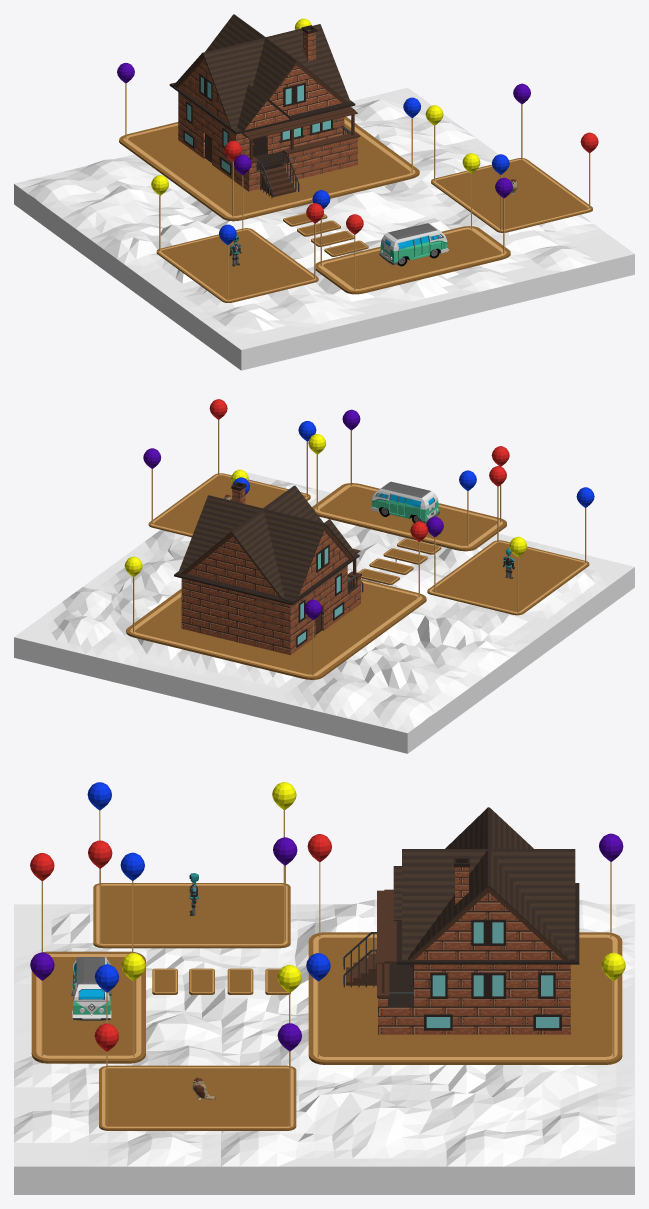
3 renders of one model, top to bottom at view 1: azimuth 30°, elevation 25°; view 2: azimuth 150°, elevation 25°; view 3: azimuth 270°, elevation 25°, orthographic. The views are drawn at different scales.
Parts seen in each view (by area): view 1: Cube.013, Cube.469, VEHICLES_VAN; view 2: Cube.013, Cube.469, VEHICLES_VAN; view 3: Cube.013, Cube.469, VEHICLES_VAN.
Boxes of the visible parts, x1,y1,x2,y2 form: Cube.013: (14, 18, 634, 370); Cube.469: (169, 14, 360, 198); VEHICLES_VAN: (379, 223, 448, 266); Cube.013: (14, 399, 634, 753); Cube.469: (174, 482, 363, 655); VEHICLES_VAN: (370, 481, 439, 523); Cube.013: (14, 782, 634, 1194); Cube.469: (343, 807, 579, 1034); VEHICLES_VAN: (71, 957, 111, 1020).
Size of the model in its own units: 4000 by 1666 by 4000.
38 materials, 2 textured.
